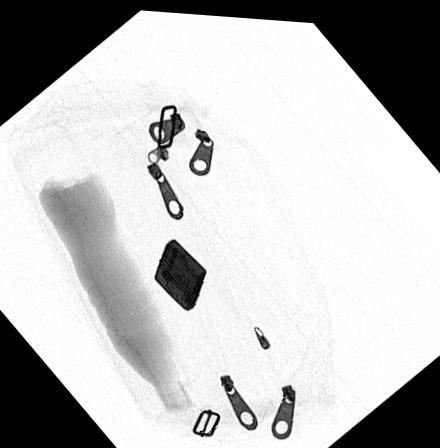Lighter: (153, 235, 207, 309)
